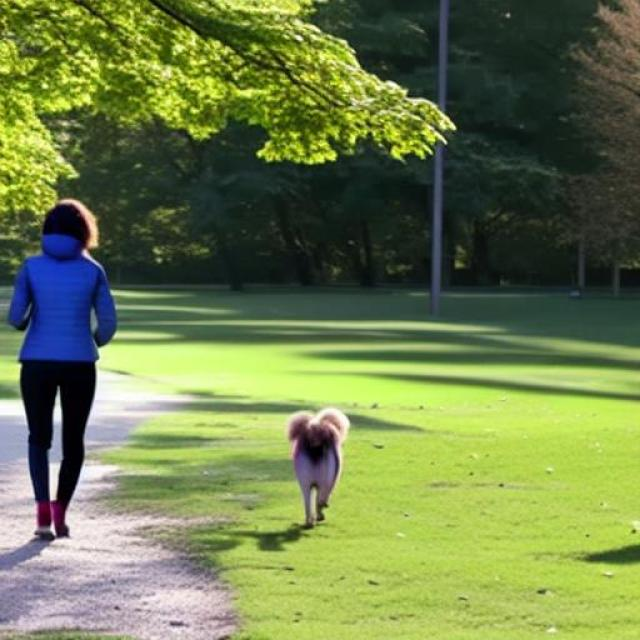Unleashed_Dog: (61, 356, 351, 531)
